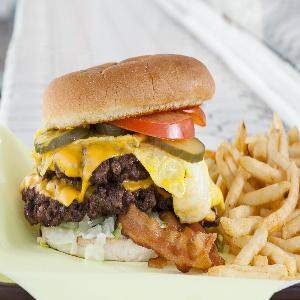cheeseburger: (24, 43, 216, 270)
fries: (222, 115, 299, 277)
